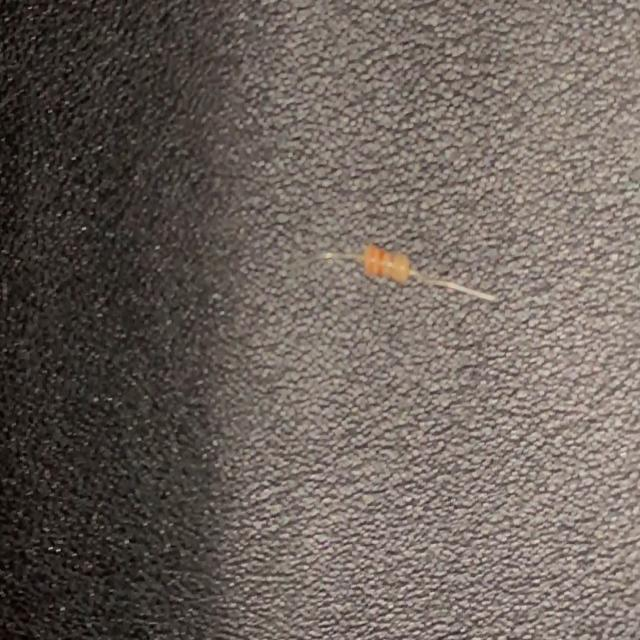faded: (388, 249, 410, 285)
resistor: (282, 242, 504, 309)
